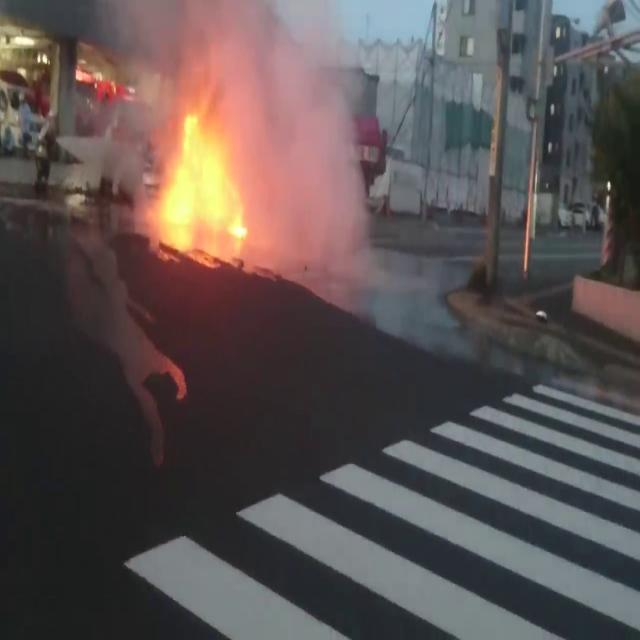Smoke: (240, 32, 359, 274), (128, 7, 239, 95)
